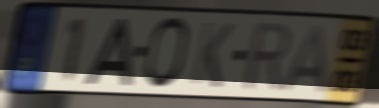1: (63, 16, 88, 84)
A: (277, 21, 332, 96), (83, 16, 133, 88)
K: (188, 19, 236, 91)
O: (142, 14, 191, 92)
R: (241, 20, 291, 94)
